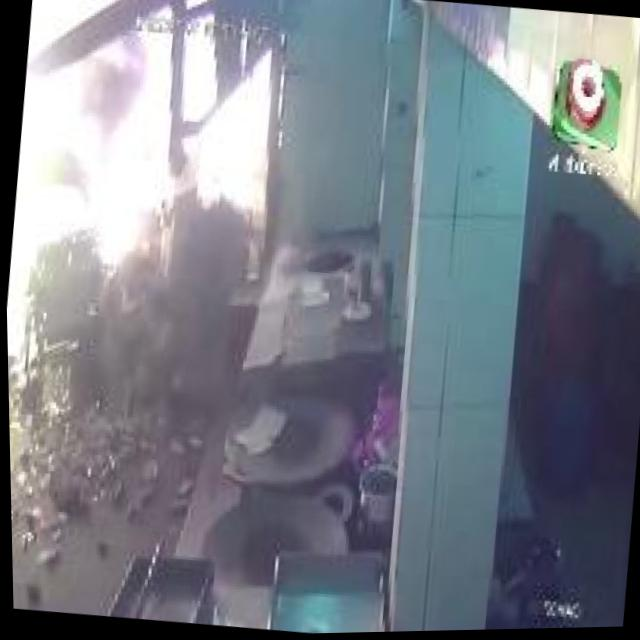fire: (0, 0, 156, 389), (77, 1, 293, 275)
